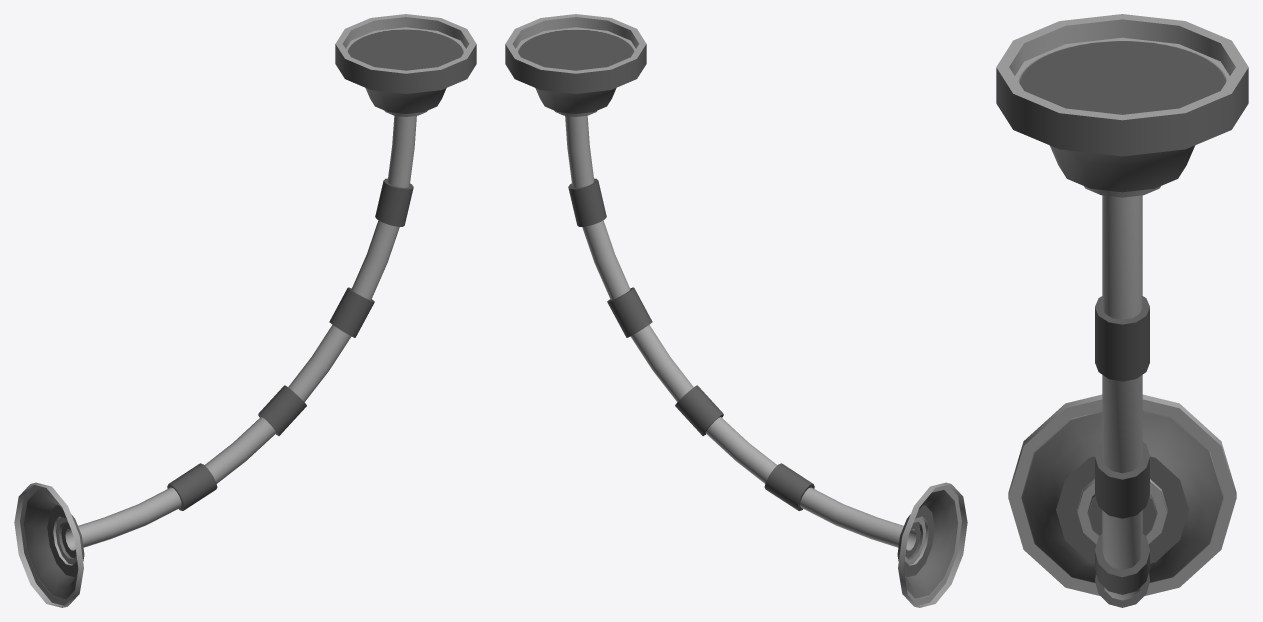
Rendered from LampPost.fbx.
The picture shows the model from 3 angles, left to right: view 1: azimuth 30°, elevation 25°; view 2: azimuth 150°, elevation 25°; view 3: azimuth 270°, elevation 25°; orthographic projection. The views are drawn at different scales.
Visible parts, largest first — view 1: pCylinder5; view 2: pCylinder5; view 3: pCylinder5.
Boxes of the visible parts, x1,y1,x2,y2 form: pCylinder5: (14,14,476,607); pCylinder5: (505,14,967,607); pCylinder5: (996,14,1248,607).
Bounding box in the file's own units: 3.16 × 3.39 × 0.9199.
